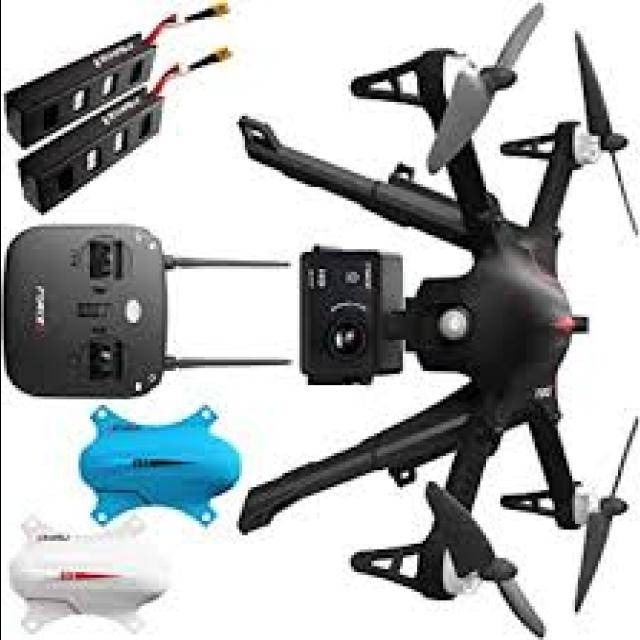drone: (204, 1, 640, 636)
